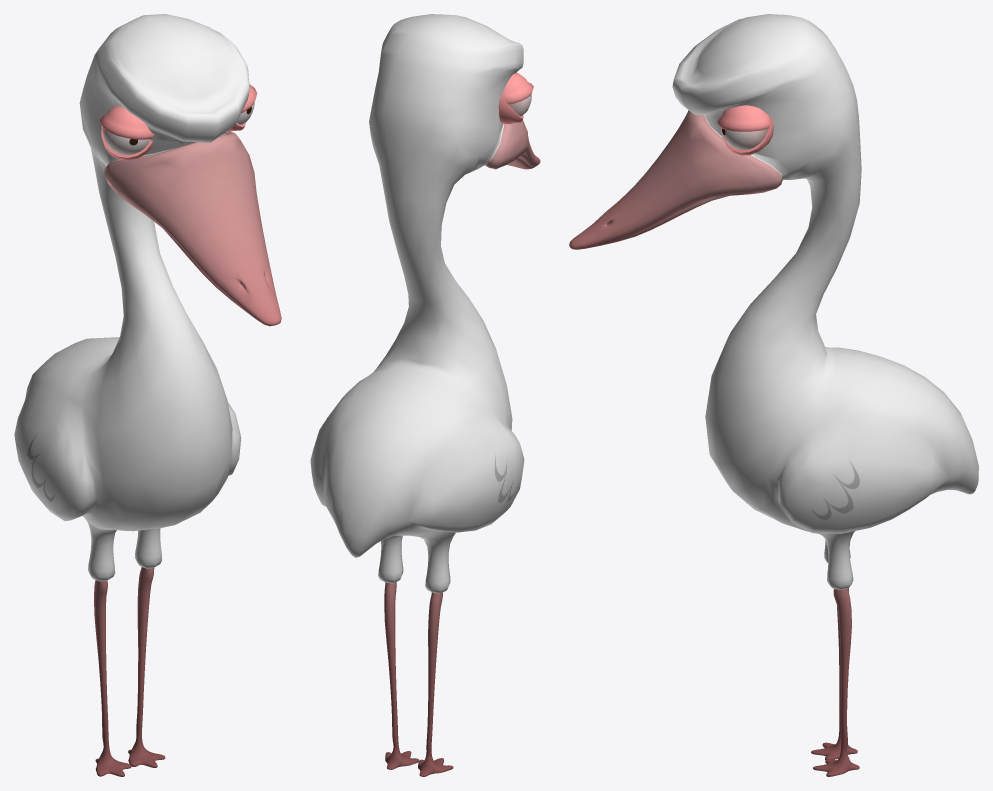
File: duck.obj
3 views of the same model, side by side, from view 1: azimuth 30°, elevation 25°; view 2: azimuth 150°, elevation 25°; view 3: azimuth 270°, elevation 25° (orthographic). The views are drawn at different scales.
Parts seen in each view (by area): view 1: Box001; view 2: Box001; view 3: Box001.
Boxes of the visible parts, box(x1,y1,x2,y2) form: Box001: box(14, 14, 281, 776); Box001: box(310, 14, 540, 776); Box001: box(569, 14, 978, 776).
Bounding box in the file's own units: 38.52 × 148 × 74.52.
Materials: 6 (4 with a texture image).
